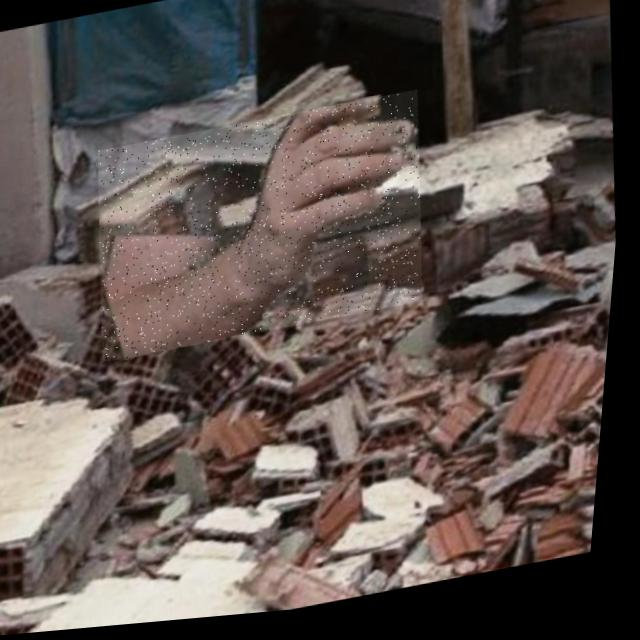Person in Rubble: (86, 96, 442, 366)
